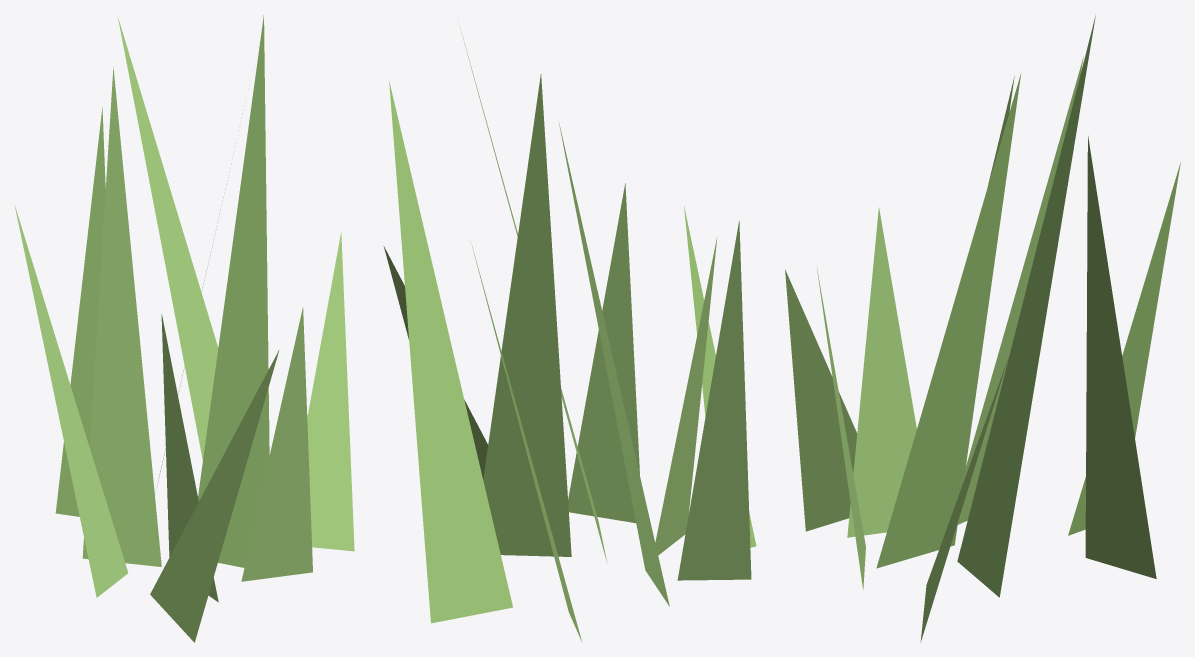
Rendered from Grass_c_TwoS_05.fbx.
3 views of the same model, side by side, from view 1: azimuth 30°, elevation 25°; view 2: azimuth 150°, elevation 25°; view 3: azimuth 270°, elevation 25° (orthographic). The views are drawn at different scales.
Visible parts, largest first — view 1: Grass_c_TwoS_05; view 2: Grass_c_TwoS_05; view 3: Grass_c_TwoS_05.
Boxes of the visible parts, x1,y1,x2,y2 form: Grass_c_TwoS_05: (14, 15, 354, 642); Grass_c_TwoS_05: (383, 21, 756, 642); Grass_c_TwoS_05: (785, 14, 1180, 642).
Bounding box in the file's own units: 42.08 × 63.67 × 41.67.
